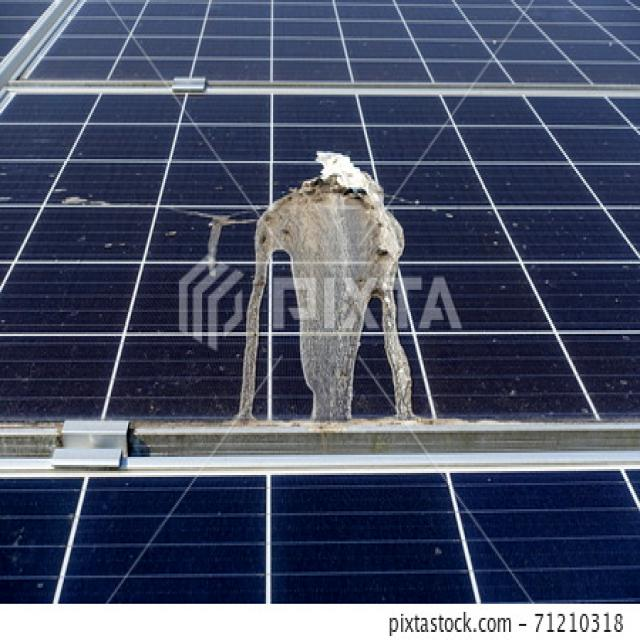bird: (230, 147, 426, 467)
